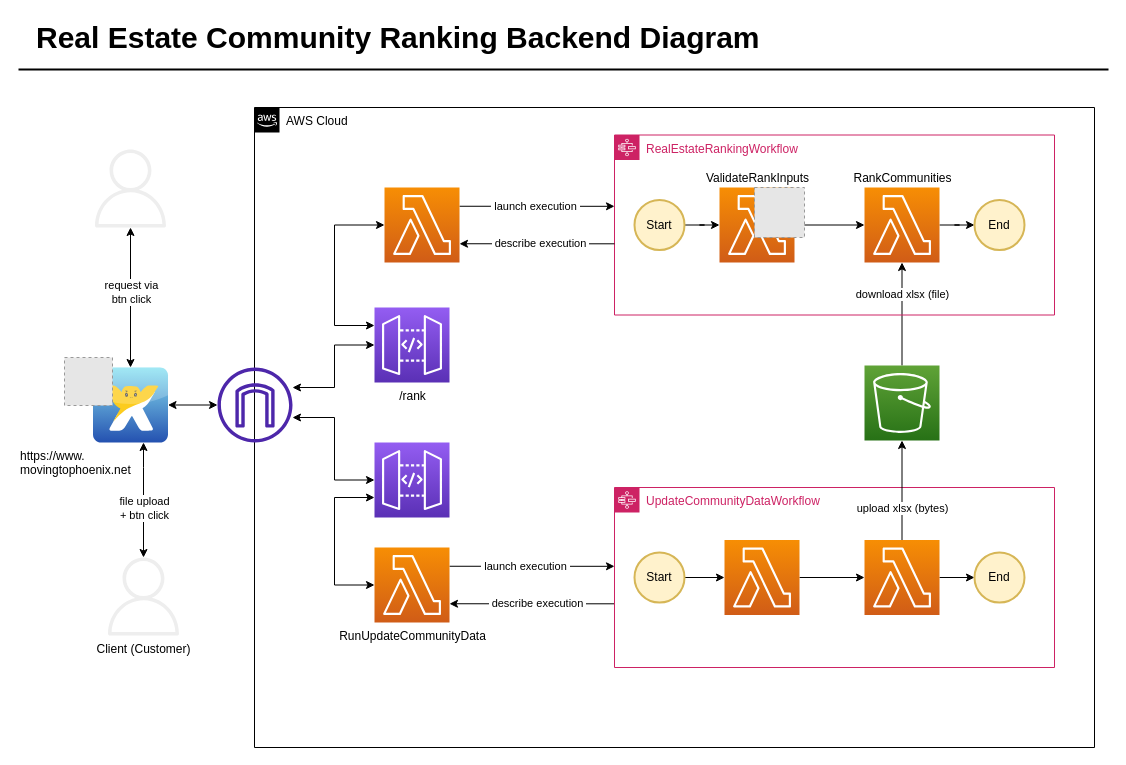
Image size: 1126x765. Some labels were removed from this diagram. Grey dashed boxes stand in for pictures. Each missing label, with the centre of its shape:
/update_data: the point at 412,480
55+ Communities (xlsx): the point at 902,402
IGW: the point at 254,404
RunRealEstateRanking: the point at 422,224
UpdateCommunityData: the point at 902,577
User: the point at 130,188
ValidateCommunityData: the point at 762,577
